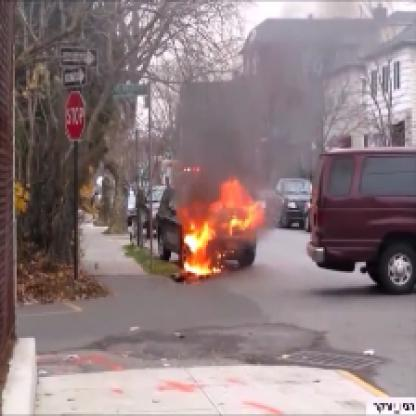Fire: (160, 177, 260, 284)
